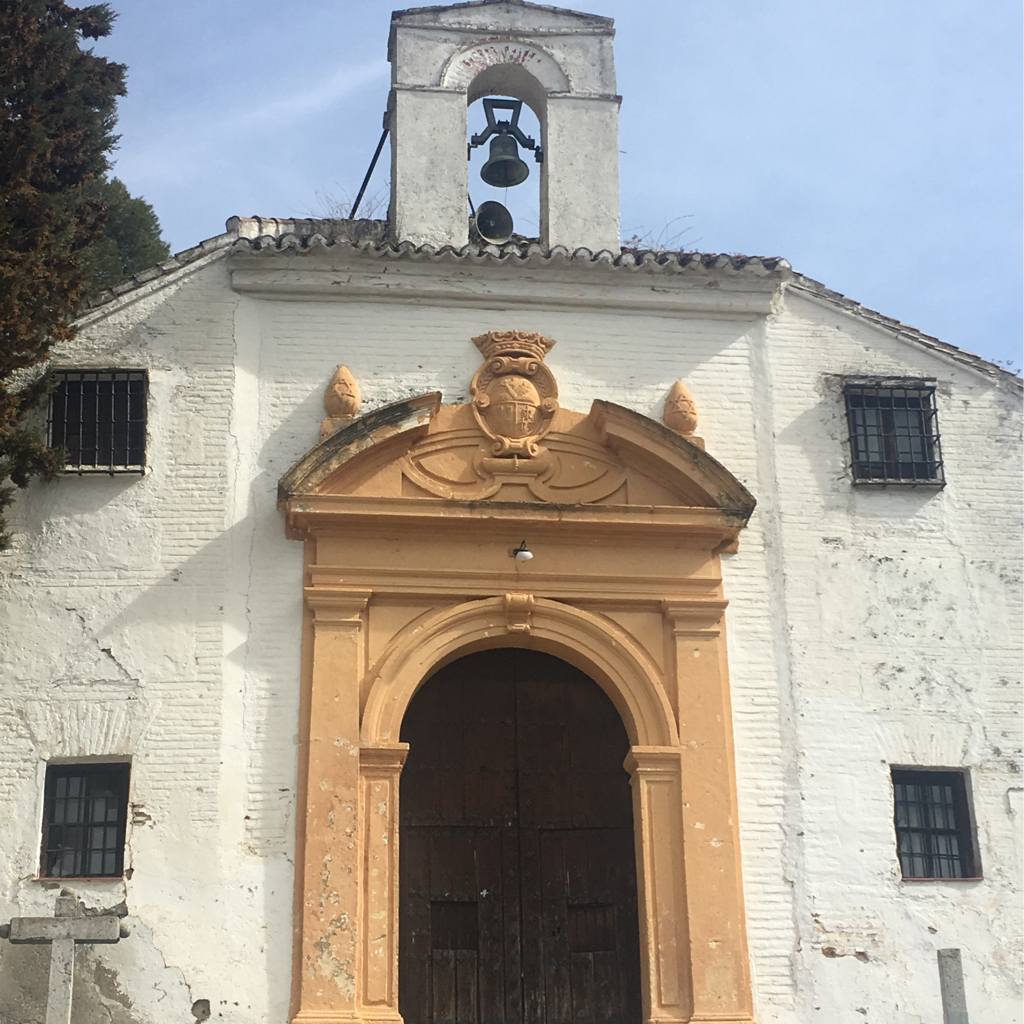arco-medio-punto: (381, 622, 658, 803)
fronton-partido: (261, 397, 744, 545)
